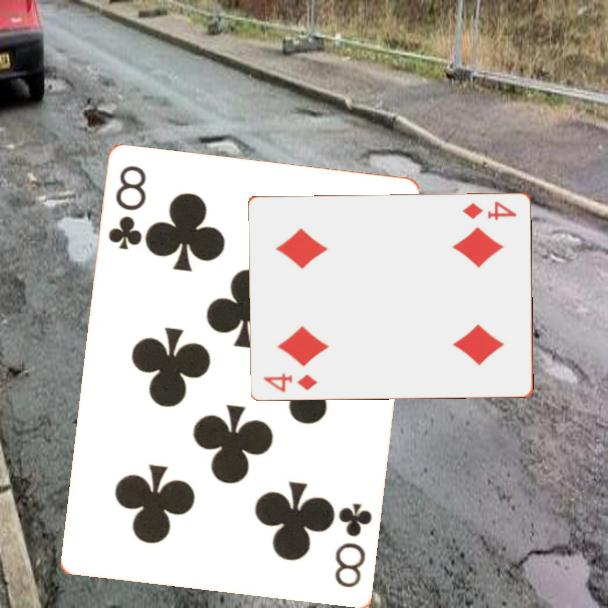c08: (105, 162, 150, 254), (331, 500, 376, 591)
d04: (459, 197, 520, 223), (260, 369, 320, 395)
